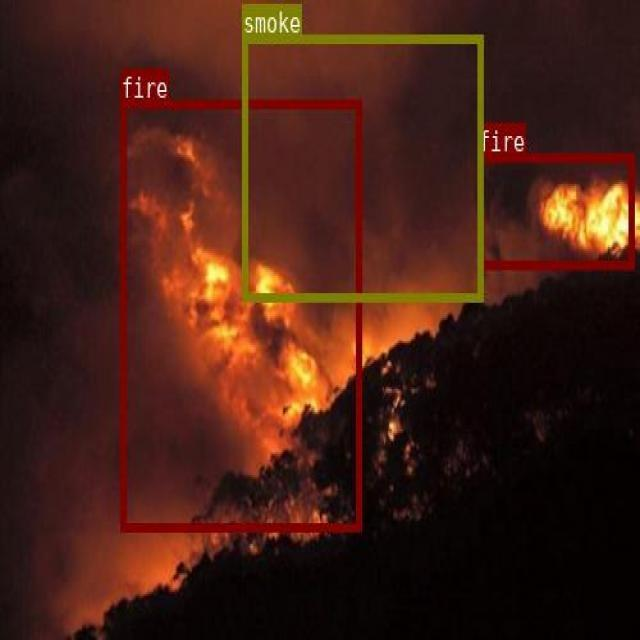fire: (120, 98, 360, 530), (477, 151, 633, 268)
smoke: (241, 34, 482, 299)
